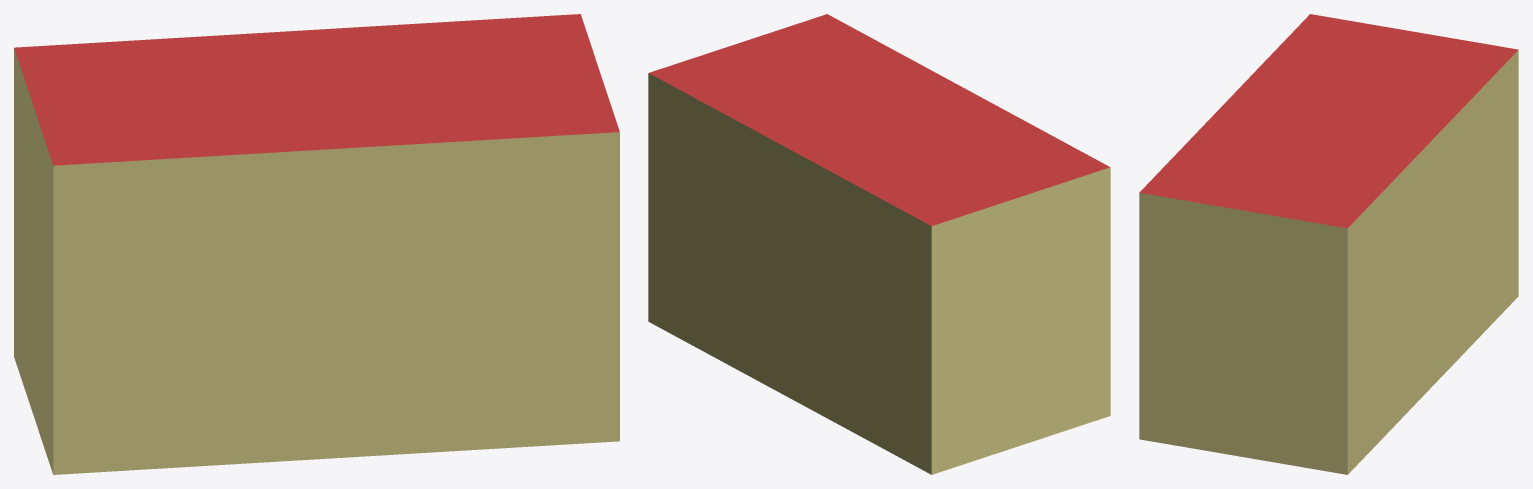
3 renders of one model, left to right at view 1: azimuth 30°, elevation 25°; view 2: azimuth 150°, elevation 25°; view 3: azimuth 270°, elevation 25°, orthographic. The views are drawn at different scales.
Size of the model in its own units: 22.93 by 17.15 by 12.3.
